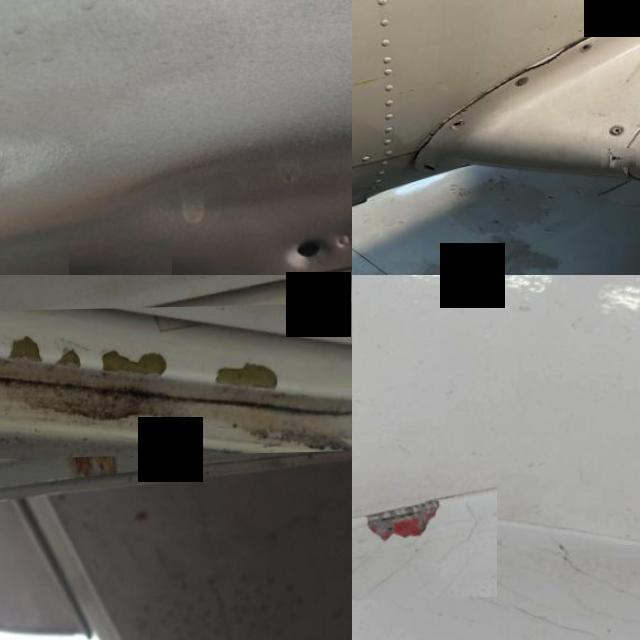Crack: (0, 305, 352, 462), (352, 471, 497, 601), (402, 108, 439, 166), (518, 46, 576, 78), (443, 87, 495, 122), (601, 151, 636, 170)
Missing_Fastener: (254, 201, 352, 275), (68, 239, 172, 275), (424, 166, 436, 174), (580, 47, 592, 55), (452, 122, 462, 130)
